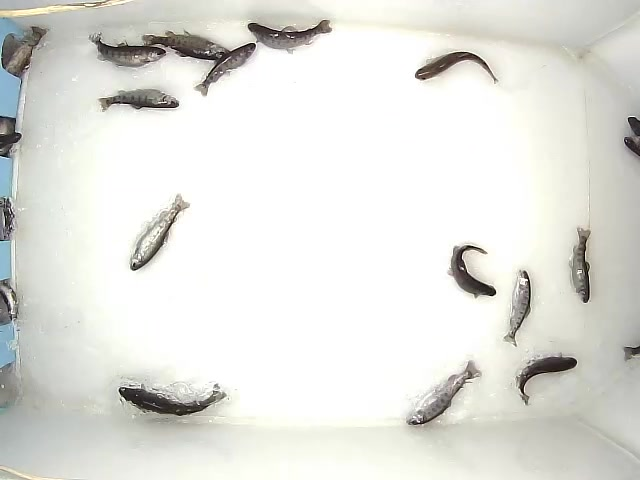fish: (405, 359, 484, 426), (129, 191, 191, 272), (117, 380, 231, 418), (514, 351, 579, 409), (193, 42, 257, 98), (246, 19, 335, 55), (414, 50, 501, 86), (88, 30, 168, 69), (446, 243, 497, 300), (141, 28, 231, 60), (501, 267, 532, 349), (95, 88, 180, 112), (567, 224, 592, 304)
